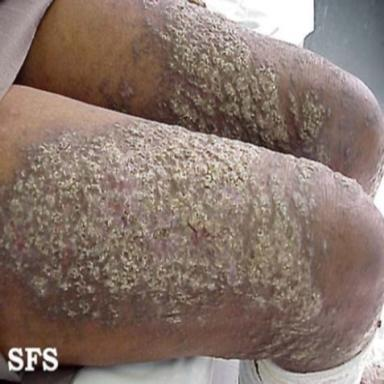Darier_s-Disease: (0, 116, 368, 371), (96, 0, 370, 167)
